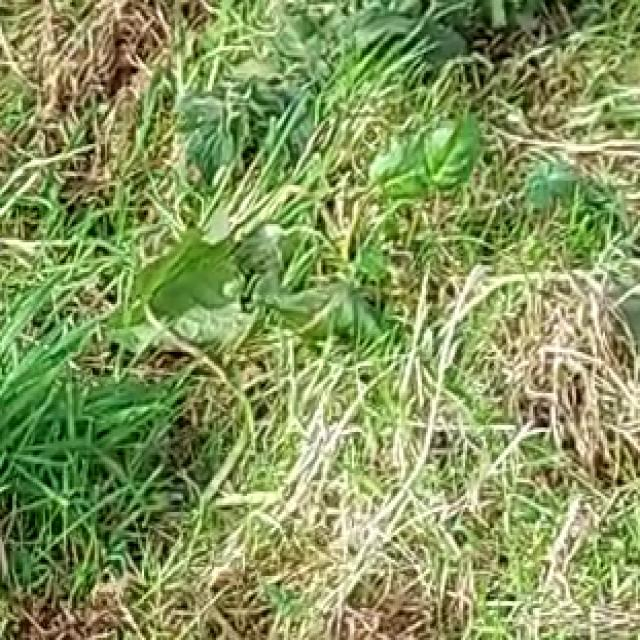organic waste: (93, 14, 506, 416)
